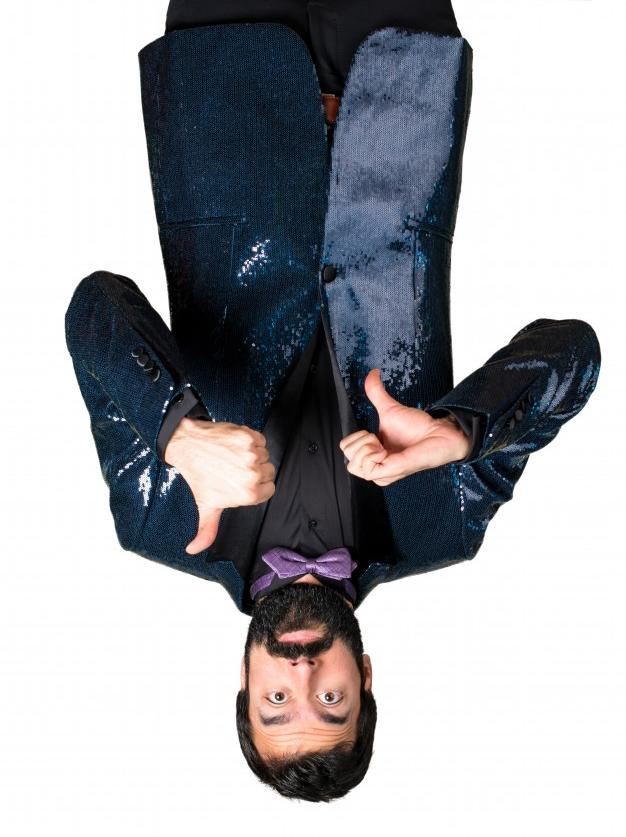thumbsdown: (185, 429, 276, 555)
